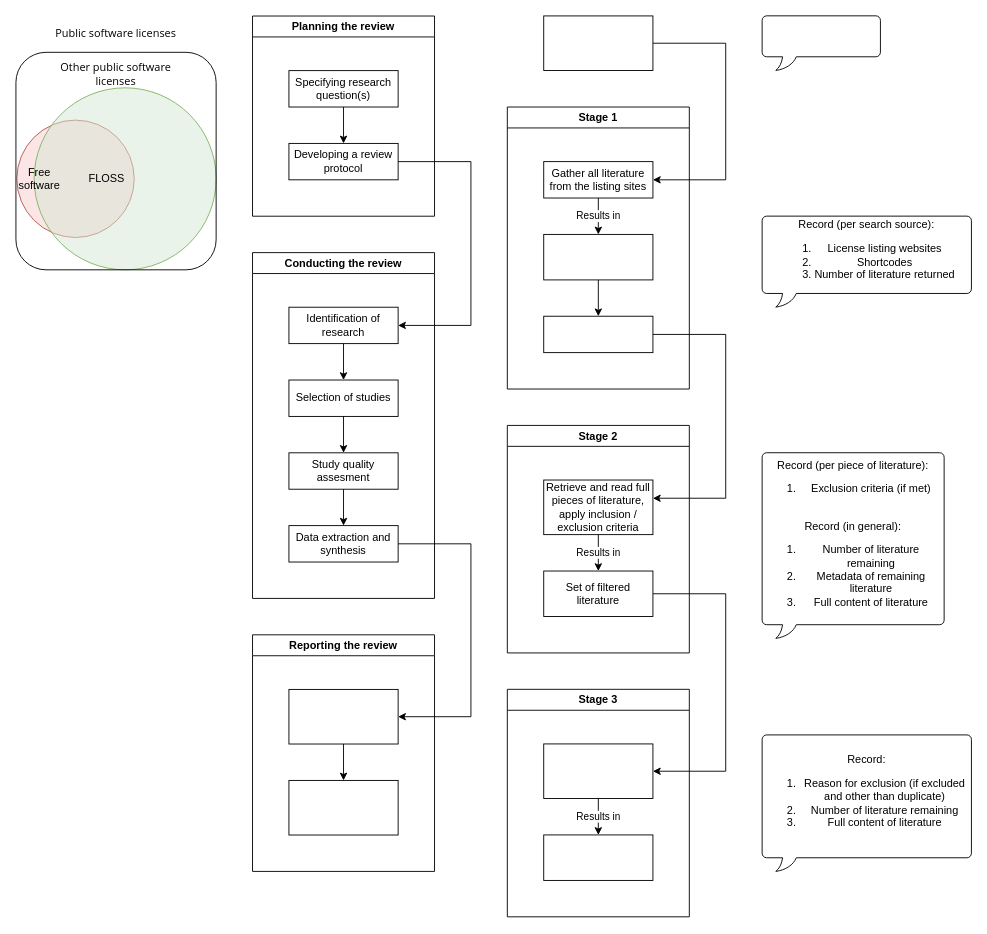
This 987x934 diagram has some shape labels left out. Each missing label, with the centre of its shape:
Formatting and evaluating the report: (x=343, y=807)
Manual search in an effort to gather the first license listing websites: (x=598, y=43)
Merge results from searches, remove duplicates: (x=598, y=257)
Open source: (x=124, y=178)
Reread full pieces of literature, last round of exclusion: (x=598, y=771)
Search based on the public software license opularity: (x=820, y=42)
Set of filtered literature used for data collection: (x=598, y=857)
Set of potentially relevant literature: (x=598, y=334)
Specifying dissemination methods: (x=343, y=716)
